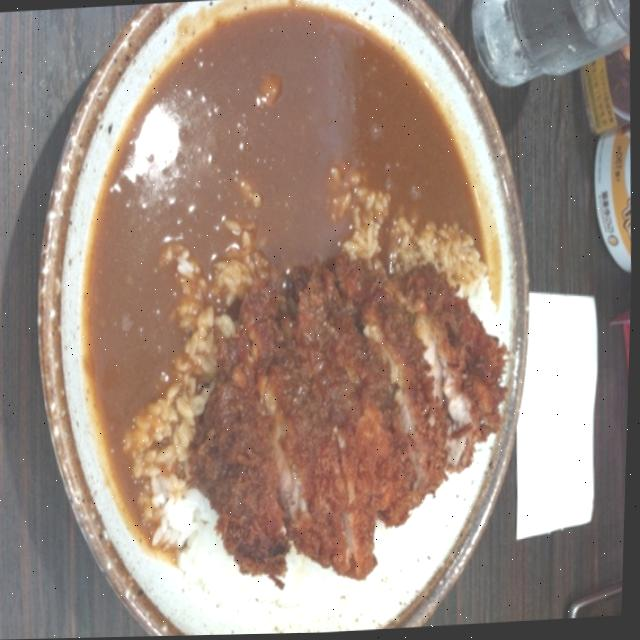鸡肉料理 含炸鸡: (6, 0, 561, 640)
